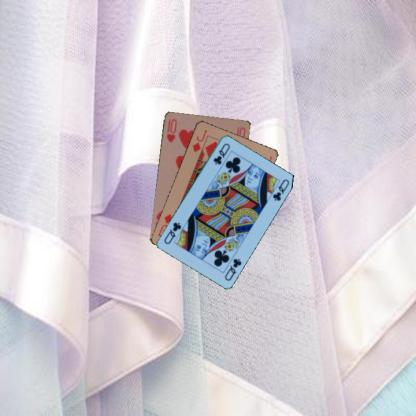10h: (164, 115, 178, 144)
Jd: (190, 127, 208, 153)
Qc: (222, 255, 243, 282), (210, 140, 231, 166)
